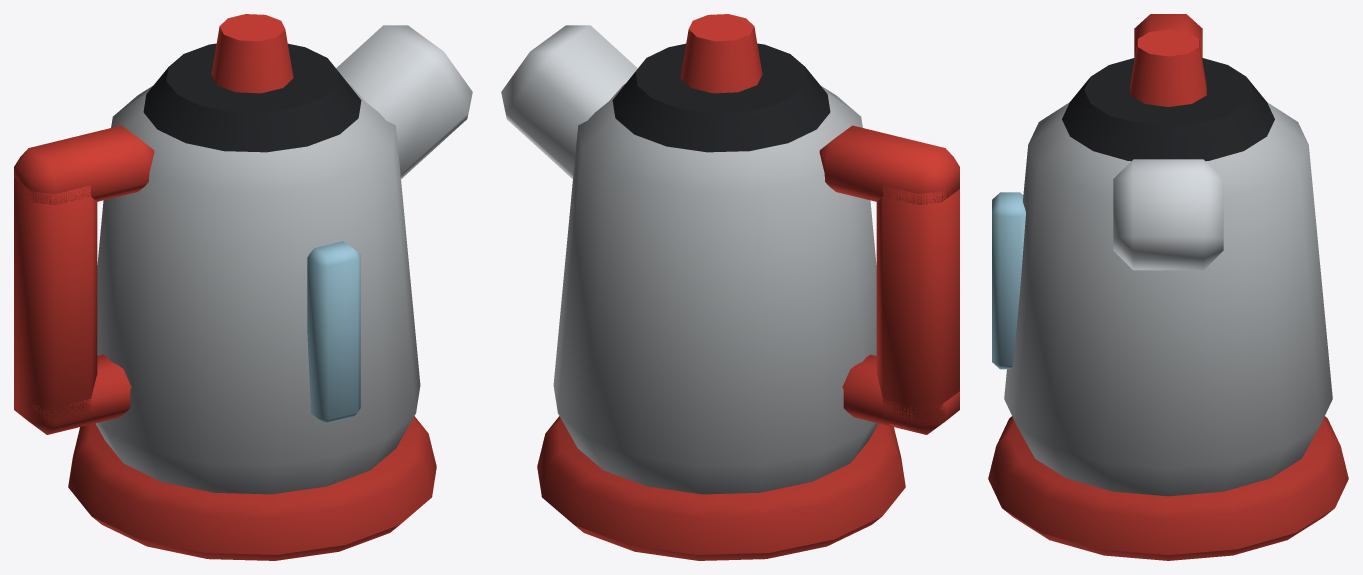
File: Kettle_Electric_01.glb
The picture shows the model from 3 angles, left to right: view 1: azimuth 30°, elevation 25°; view 2: azimuth 150°, elevation 25°; view 3: azimuth 270°, elevation 25°; orthographic projection. The views are drawn at different scales.
Parts seen in each view (by area): view 1: SM_Kettle_Electric_01; view 2: SM_Kettle_Electric_01; view 3: SM_Kettle_Electric_01.
Part boxes in pixels (x1,y1,x2,y2): SM_Kettle_Electric_01: [14, 14, 472, 560]; SM_Kettle_Electric_01: [501, 14, 959, 560]; SM_Kettle_Electric_01: [988, 14, 1348, 560].
Size of the model in its own units: 0.2411 by 0.246 by 0.18.
Materials: 1 (1 with a texture image).
